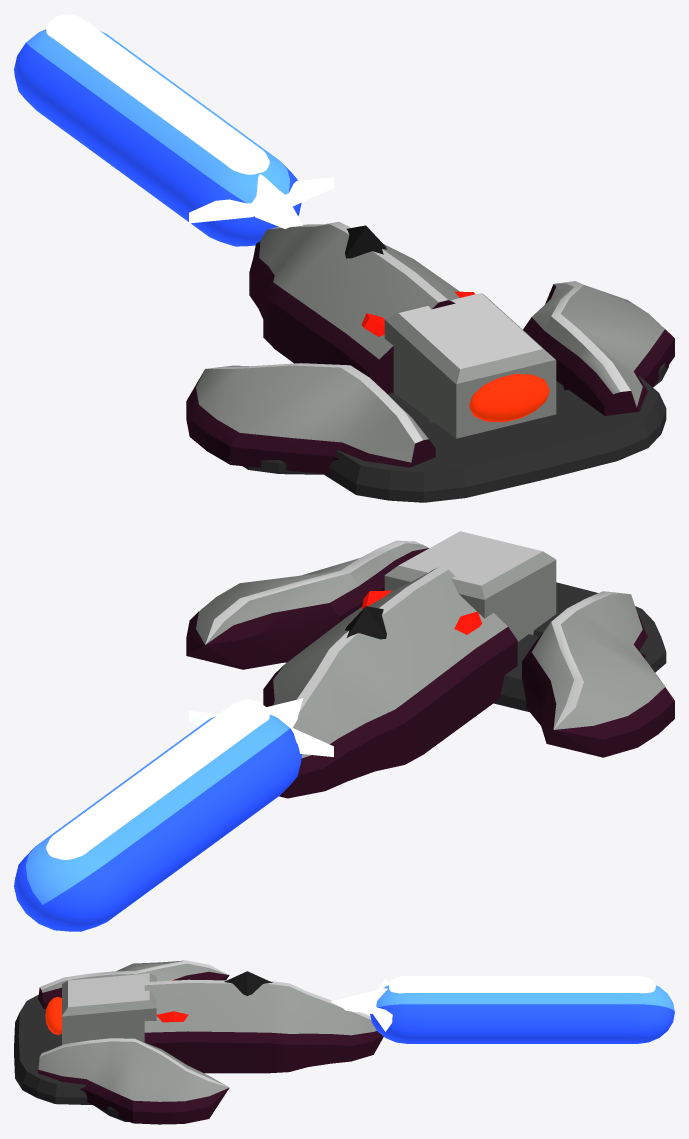
Rendered from pu_megalaser.glb.
3 renders of one model, top to bottom at view 1: azimuth 30°, elevation 25°; view 2: azimuth 150°, elevation 25°; view 3: azimuth 270°, elevation 25°, orthographic. The views are drawn at different scales.
Parts seen in each view (by area): view 1: blade_left, spire, beam, base_rear, block, blade_right, beam_core, exhaust, muzzle_1, muzzle_0, base_front, canopy; view 2: spire, beam, blade_left, blade_right, block, beam_core, base_rear, base_front, muzzle_1, canopy, muzzle_0; view 3: spire, beam, blade_right, block, beam_core, base_rear, blade_left, muzzle_0, canopy, exhaust, muzzle_1, light.
Part boxes in pixels (box(x1,y1,x2,y2)): blade_left: box(186, 363, 435, 474); spire: box(249, 222, 459, 394); beam: box(14, 29, 301, 246); base_rear: box(324, 376, 666, 502); block: box(384, 293, 556, 438); blade_right: box(523, 281, 674, 415); beam_core: box(46, 14, 269, 174); exhaust: box(469, 374, 549, 422); muzzle_1: box(189, 177, 333, 223); muzzle_0: box(252, 174, 302, 228); base_front: box(243, 362, 668, 474); canopy: box(345, 225, 386, 258); spire: box(263, 567, 517, 798); beam: box(14, 714, 301, 931); blade_left: box(522, 591, 674, 757); blade_right: box(186, 540, 428, 669); block: box(384, 531, 556, 641); beam_core: box(46, 699, 269, 859); base_rear: box(533, 582, 666, 672); base_front: box(494, 634, 539, 711); muzzle_1: box(189, 711, 333, 756); canopy: box(345, 606, 386, 639); muzzle_0: box(266, 698, 303, 727); spire: box(144, 979, 383, 1073); beam: box(370, 985, 674, 1043); blade_right: box(38, 1038, 229, 1124); block: box(62, 973, 156, 1044); beam_core: box(389, 976, 655, 993); base_rear: box(14, 995, 91, 1104); blade_left: box(38, 960, 229, 1008); muzzle_0: box(330, 988, 387, 1013); canopy: box(224, 971, 272, 995); exhaust: box(45, 997, 61, 1034); muzzle_1: box(372, 978, 392, 1031); light: box(156, 1011, 188, 1022).
Size of the model in its own units: 13.1 by 3.48 by 25.12.
